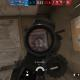Character: (38, 40, 40, 47)
Friend_label: (78, 32, 80, 35)
Head: (38, 40, 39, 41)
